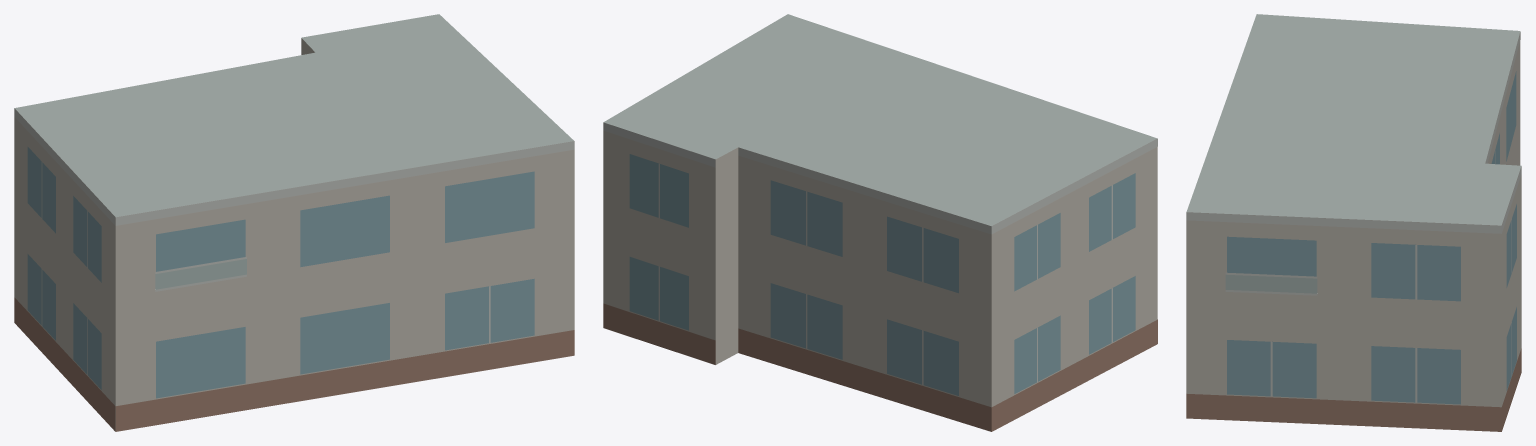
Rendered from survey-upis-32661183.glb.
3 views of the same model, side by side, from view 1: azimuth 30°, elevation 25°; view 2: azimuth 150°, elevation 25°; view 3: azimuth 270°, elevation 25° (orthographic). The views are drawn at different scales.
Visible parts, largest first — view 1: survey-upis-32661183.tmp; view 2: survey-upis-32661183.tmp; view 3: survey-upis-32661183.tmp.
Boxes of the visible parts, x1,y1,x2,y2 form: survey-upis-32661183.tmp: (14,14,574,431); survey-upis-32661183.tmp: (603,14,1157,431); survey-upis-32661183.tmp: (1186,14,1521,431).
Bounding box in the file's own units: 13.43 × 6.1 × 9.
